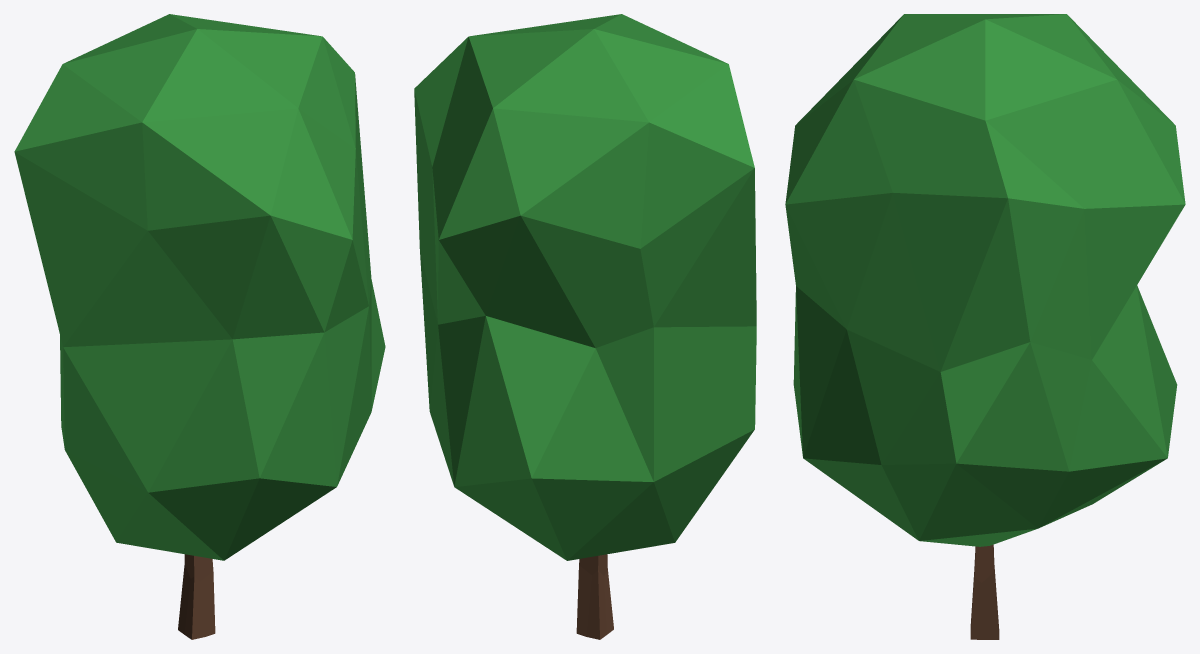
The model's file is Tree_7_Green.fbx.
3 views of the same model, side by side, from view 1: azimuth 30°, elevation 25°; view 2: azimuth 150°, elevation 25°; view 3: azimuth 270°, elevation 25° (orthographic). The views are drawn at different scales.
Visible parts, largest first — view 1: Tree_7_Green_Part_1, Tree_7_Green_Part_2; view 2: Tree_7_Green_Part_1, Tree_7_Green_Part_2; view 3: Tree_7_Green_Part_1, Tree_7_Green_Part_2.
Part boxes in pixels (left/top/right/bottom): Tree_7_Green_Part_1: left=14, top=14, right=385, bottom=560; Tree_7_Green_Part_2: left=178, top=554, right=215, bottom=639; Tree_7_Green_Part_1: left=414, top=14, right=756, bottom=560; Tree_7_Green_Part_2: left=576, top=554, right=613, bottom=639; Tree_7_Green_Part_1: left=785, top=14, right=1185, bottom=546; Tree_7_Green_Part_2: left=970, top=544, right=999, bottom=639.
Size of the model in its own units: 478 by 796 by 468.
